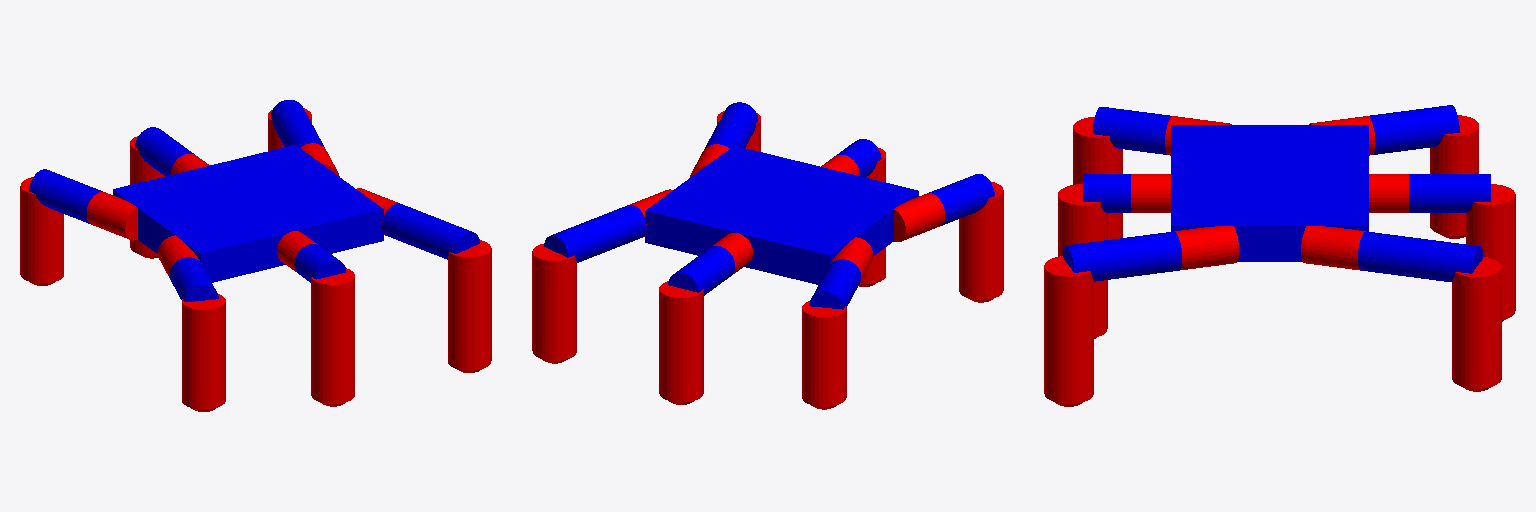
--- Render facts (derived) ---
3 views of the same robot in one strip: view 1: azimuth 30°, elevation 25°; view 2: azimuth 150°, elevation 25°; view 3: azimuth 270°, elevation 25° (orthographic).
Model pexod with 19 links and 18 joints (18 revolute), rooted at base_link, posed every joint at zero.
Links seen in each view (by area): view 1: base_link, leg_4_3, leg_3_3, leg_5_3, leg_0_3, leg_3_2, leg_0_2, leg_0_1, leg_2_2, leg_5_2, leg_1_2, leg_4_2 (+3 smaller); view 2: base_link, leg_1_3, leg_2_3, leg_0_3, leg_5_3, leg_2_2, leg_1_2, leg_5_2, leg_5_1, leg_0_2, leg_3_2, leg_4_3 (+3 smaller); view 3: base_link, leg_3_3, leg_2_3, leg_2_2, leg_3_2, leg_1_3, leg_4_3, leg_0_2, leg_1_2, leg_0_3, leg_5_2, leg_5_3 (+5 smaller).
Boxes of the visible links, x1,y1,x2,y2 form: base_link: (113, 145, 383, 282); leg_4_3: (311, 268, 354, 406); leg_3_3: (448, 240, 491, 372); leg_5_3: (182, 294, 225, 411); leg_0_3: (20, 177, 63, 285); leg_3_2: (382, 203, 479, 259); leg_0_2: (29, 169, 102, 223); leg_0_1: (87, 192, 137, 240); leg_2_2: (271, 100, 324, 147); leg_5_2: (170, 257, 218, 301); leg_1_2: (135, 127, 194, 175); leg_4_2: (294, 244, 345, 282); base_link: (645, 146, 918, 284); leg_1_3: (659, 281, 703, 404); leg_2_3: (532, 244, 576, 363); leg_0_3: (802, 301, 846, 409); leg_5_3: (959, 181, 1003, 302); leg_2_2: (544, 205, 646, 262); leg_1_2: (668, 246, 734, 295); leg_5_2: (929, 174, 994, 225); leg_5_1: (894, 193, 944, 241); leg_0_2: (809, 259, 860, 309); leg_3_2: (705, 102, 757, 148); leg_4_3: (859, 148, 885, 286); base_link: (1171, 125, 1368, 261); leg_3_3: (1044, 256, 1093, 406); leg_2_3: (1452, 257, 1501, 391); leg_2_2: (1358, 231, 1482, 281); leg_3_2: (1063, 231, 1181, 281); leg_1_3: (1466, 184, 1515, 321); leg_4_3: (1058, 184, 1107, 338); leg_0_2: (1369, 105, 1459, 154); leg_1_2: (1409, 174, 1490, 212); leg_0_3: (1430, 115, 1478, 238); leg_5_2: (1093, 107, 1171, 154); leg_5_3: (1073, 117, 1122, 239).
Bounding box of the posed robot: 0.3871 × 0.475 × 0.1819 m (x, y, z).
Geometry: primitives only (box / cylinder / sphere), no mesh files.

URDF robot description (pexod):
<?xml version="1.0" ?>
<!-- =================================================================================== -->
<!-- |    This document was autogenerated by xacro from pexod.xacro                    | -->
<!-- |    EDITING THIS FILE BY HAND IS NOT RECOMMENDED                                 | -->
<!-- =================================================================================== -->
<robot name="pexod" xmlns:xacro="http://www.ros.org/wiki/xacro">
  <!-- <xacro:include filename="$(find pexod_description)/urdf/pexod_control.xacro" /> -->
  <!-- MATERIALS -->
  <material name="Blue">
    <color rgba="0 0 1 1"/>
  </material>
  <material name="Red">
    <color rgba="1 0 0 1"/>
  </material>
  <material name="Green">
    <color rgba="0 1 0 1"/>
  </material>
  <material name="Yellow">
    <color rgba="1 1 0 1"/>
  </material>
  <material name="LightGrey">
    <color rgba="0.6 0.6 0.6 1.0"/>
  </material>
  <!-- END OF MATERIALS -->
  <!-- XACRO MACROS FOR VISUALS AND COLLISIONS -->
  <!-- END OF XACRO MACROS -->
  <!-- TORSO -->
  <link name="base_link">
    <visual>
      <origin rpy="0 0 0" xyz="0 0 0"/>
      <geometry>
        <box size="0.24 0.2 0.04"/>
      </geometry>
      <material name="Blue"/>
    </visual>
    <collision>
      <origin rpy="0 0 0" xyz="0 0 0"/>
      <geometry>
        <box size="0.24 0.2 0.04"/>
      </geometry>
    </collision>
    <inertial>
      <!-- CENTER OF MASS -->
      <origin rpy="0 0 0" xyz="0 0 0"/>
      <mass value="1.031"/>
      <!-- box inertia: 1/12*m(y^2+z^2), ... -->
      <inertia ixx="0.00357413333333" ixy="0" ixz="0" iyy="0.00508626666667" iyz="0" izz="0.00838546666667"/>
    </inertial>
  </link>
  <!-- XACRO MACRO FOR LEGS LINKS/JOINTS -->
  <!-- END OF LEG LINKS/JOINTS -->
  <joint name="body_leg_2" type="revolute">
    <parent link="base_link"/>
    <child link="leg_2_1"/>
    <limit effort="30.0" lower="-1.57079632679" upper="1.57079632679" velocity="7.0"/>
    <origin rpy="0 0 -0.3" xyz="0.11 0.04 0"/>
    <!-- <xacro:if value="${index == 5 or index == 4 or index == 3}">
                <axis xyz="0 0 1"/>
            </xacro:if>
            <xacro:if value="${index == 2 or index == 1 or index == 0}"> -->
    <axis xyz="0 0 1"/>
    <!-- </xacro:if> -->
    <dynamics damping="0.0"/>
  </joint>
  <link name="leg_2_1">
    <visual>
      <origin rpy="1.57079632679 0 0" xyz="0.01 0.03 0"/>
      <geometry>
        <cylinder length="0.06" radius="0.02"/>
      </geometry>
      <material name="Red"/>
    </visual>
    <collision>
      <origin rpy="1.57079632679 0 0" xyz="0.01 0.03 0"/>
      <geometry>
        <box size="0.02 0.02 0.06"/>
      </geometry>
    </collision>
    <inertial>
      <!-- CENTER OF MASS -->
      <origin rpy="1.57079632679 0 0" xyz="0.01 0.03 0"/>
      <mass value="0.02"/>
      <!-- box inertia: 1/12*m(y^2+z^2), ... -->
      <inertia ixx="6.66666666667e-06" ixy="0" ixz="0" iyy="6.66666666667e-06" iyz="0" izz="1.33333333333e-06"/>
    </inertial>
  </link>
  <joint name="leg_2_1_2" type="revolute">
    <parent link="leg_2_1"/>
    <child link="leg_2_2"/>
    <limit effort="30.0" lower="-0.78539816339" upper="0.78539816339" velocity="7.0"/>
    <origin rpy="0 0 0" xyz="0 0.06 0"/>
    <axis xyz="1 0 0"/>
    <dynamics damping="0.0"/>
  </joint>
  <link name="leg_2_2">
    <visual>
      <origin rpy="1.57079632679 0 0" xyz="0.01 0.060106948736 0"/>
      <geometry>
        <cylinder length="0.120213897472" radius="0.02"/>
      </geometry>
      <material name="Blue"/>
    </visual>
    <collision>
      <origin rpy="1.57079632679 0 0" xyz="0.01 0.060106948736 0"/>
      <geometry>
        <box size="0.02 0.02 0.120213897472"/>
      </geometry>
    </collision>
    <inertial>
      <!-- CENTER OF MASS -->
      <origin rpy="1.57079632679 0 0" xyz="0.01 0.060106948736 0"/>
      <mass value="0.184"/>
      <!-- box inertia: 1/12*m(y^2+z^2), ... -->
      <inertia ixx="0.000227721177563" ixy="0" ixz="0" iyy="0.000227721177563" iyz="0" izz="1.22666666667e-05"/>
    </inertial>
  </link>
  <joint name="leg_2_2_3" type="revolute">
    <parent link="leg_2_2"/>
    <child link="leg_2_3"/>
    <limit effort="30.0" lower="-0.78539816339" upper="0.78539816339" velocity="7.0"/>
    <origin rpy="-1.57079632679 0 0" xyz="0 0.120213897472 0"/>
    <axis xyz="-1 0 0"/>
    <dynamics damping="0.0"/>
  </joint>
  <link name="leg_2_3">
    <visual>
      <origin rpy="1.57079632679 0 0" xyz="0.0125 0.0620034790075 0"/>
      <geometry>
        <cylinder length="0.124006958015" radius="0.025"/>
      </geometry>
      <material name="Red"/>
    </visual>
    <visual>
      <origin rpy="1.57079632679 0 0" xyz="0.0125 0.111506958015 0"/>
      <geometry>
        <sphere radius="0.025"/>
      </geometry>
      <material name="Red"/>
    </visual>
    <collision>
      <origin rpy="1.57079632679 0 0" xyz="0.0125 0.0620034790075 0"/>
      <geometry>
        <box size="0.025 0.025 0.124006958015"/>
      </geometry>
    </collision>
    <collision>
      <origin rpy="1.57079632679 0 0" xyz="0.0125 0.111506958015 0"/>
      <geometry>
        <sphere radius="0.025"/>
      </geometry>
      <material name="Red"/>
    </collision>
    <inertial>
      <!-- CENTER OF MASS -->
      <origin rpy="1.57079632679 0 0" xyz="0.0125 0.0620034790075 0"/>
      <mass value="0.04"/>
      <!-- box inertia: 1/12*m(y^2+z^2), ... -->
      <inertia ixx="5.33424187871e-05" ixy="0" ixz="0" iyy="5.33424187871e-05" iyz="0" izz="4.16666666667e-06"/>
    </inertial>
  </link>
  <joint name="body_leg_3" type="revolute">
    <parent link="base_link"/>
    <child link="leg_3_1"/>
    <limit effort="30.0" lower="-1.57079632679" upper="1.57079632679" velocity="7.0"/>
    <origin rpy="0 0 0.3" xyz="0.11 -0.04 0"/>
    <!-- <xacro:if value="${index == 5 or index == 4 or index == 3}">
                <axis xyz="0 0 1"/>
            </xacro:if>
            <xacro:if value="${index == 2 or index == 1 or index == 0}"> -->
    <axis xyz="0 0 1"/>
    <!-- </xacro:if> -->
    <dynamics damping="0.0"/>
  </joint>
  <link name="leg_3_1">
    <visual>
      <origin rpy="1.57079632679 0 0" xyz="0.01 -0.03 0"/>
      <geometry>
        <cylinder length="0.06" radius="0.02"/>
      </geometry>
      <material name="Red"/>
    </visual>
    <collision>
      <origin rpy="1.57079632679 0 0" xyz="0.01 -0.03 0"/>
      <geometry>
        <box size="0.02 0.02 0.06"/>
      </geometry>
    </collision>
    <inertial>
      <!-- CENTER OF MASS -->
      <origin rpy="1.57079632679 0 0" xyz="0.01 -0.03 0"/>
      <mass value="0.02"/>
      <!-- box inertia: 1/12*m(y^2+z^2), ... -->
      <inertia ixx="6.66666666667e-06" ixy="0" ixz="0" iyy="6.66666666667e-06" iyz="0" izz="1.33333333333e-06"/>
    </inertial>
  </link>
  <joint name="leg_3_1_2" type="revolute">
    <parent link="leg_3_1"/>
    <child link="leg_3_2"/>
    <limit effort="30.0" lower="-0.78539816339" upper="0.78539816339" velocity="7.0"/>
    <origin rpy="0 0 0" xyz="0 -0.06 0"/>
    <axis xyz="-1 0 0"/>
    <dynamics damping="0.0"/>
  </joint>
  <link name="leg_3_2">
    <visual>
      <origin rpy="1.57079632679 0 0" xyz="0.01 -0.0570740806035 0"/>
      <geometry>
        <cylinder length="0.114148161207" radius="0.02"/>
      </geometry>
      <material name="Blue"/>
    </visual>
    <collision>
      <origin rpy="1.57079632679 0 0" xyz="0.01 -0.0570740806035 0"/>
      <geometry>
        <box size="0.02 0.02 0.114148161207"/>
      </geometry>
    </collision>
    <inertial>
      <!-- CENTER OF MASS -->
      <origin rpy="1.57079632679 0 0" xyz="0.01 -0.0570740806035 0"/>
      <mass value="0.184"/>
      <!-- box inertia: 1/12*m(y^2+z^2), ... -->
      <inertia ixx="0.000205923641506" ixy="0" ixz="0" iyy="0.000205923641506" iyz="0" izz="1.22666666667e-05"/>
    </inertial>
  </link>
  <joint name="leg_3_2_3" type="revolute">
    <parent link="leg_3_2"/>
    <child link="leg_3_3"/>
    <limit effort="30.0" lower="-0.78539816339" upper="0.78539816339" velocity="7.0"/>
    <origin rpy="1.57079632679 0 0" xyz="0 -0.114148161207 0"/>
    <axis xyz="1 0 0"/>
    <dynamics damping="0.0"/>
  </joint>
  <link name="leg_3_3">
    <visual>
      <origin rpy="1.57079632679 0 0" xyz="0.0125 -0.070898653784 0"/>
      <geometry>
        <cylinder length="0.141797307568" radius="0.025"/>
      </geometry>
      <material name="Red"/>
    </visual>
    <visual>
      <origin rpy="1.57079632679 0 0" xyz="0.0125 -0.129297307568 0"/>
      <geometry>
        <sphere radius="0.025"/>
      </geometry>
      <material name="Red"/>
    </visual>
    <collision>
      <origin rpy="1.57079632679 0 0" xyz="0.0125 -0.070898653784 0"/>
      <geometry>
        <box size="0.025 0.025 0.141797307568"/>
      </geometry>
    </collision>
    <collision>
      <origin rpy="1.57079632679 0 0" xyz="0.0125 -0.129297307568 0"/>
      <geometry>
        <sphere radius="0.025"/>
      </geometry>
      <material name="Red"/>
    </collision>
    <inertial>
      <!-- CENTER OF MASS -->
      <origin rpy="1.57079632679 0 0" xyz="0.0125 -0.070898653784 0"/>
      <mass value="0.04"/>
      <!-- box inertia: 1/12*m(y^2+z^2), ... -->
      <inertia ixx="6.91049214451e-05" ixy="0" ixz="0" iyy="6.91049214451e-05" iyz="0" izz="4.16666666667e-06"/>
    </inertial>
  </link>
  <joint name="body_leg_0" type="revolute">
    <parent link="base_link"/>
    <child link="leg_0_1"/>
    <limit effort="30.0" lower="-1.57079632679" upper="1.57079632679" velocity="7.0"/>
    <origin rpy="0 0 0.3" xyz="-0.13 0.04 0"/>
    <!-- <xacro:if value="${index == 5 or index == 4 or index == 3}">
                <axis xyz="0 0 1"/>
            </xacro:if>
            <xacro:if value="${index == 2 or index == 1 or index == 0}"> -->
    <axis xyz="0 0 1"/>
    <!-- </xacro:if> -->
    <dynamics damping="0.0"/>
  </joint>
  <link name="leg_0_1">
    <visual>
      <origin rpy="1.57079632679 0 0" xyz="0.01 0.03 0"/>
      <geometry>
        <cylinder length="0.06" radius="0.02"/>
      </geometry>
      <material name="Red"/>
    </visual>
    <collision>
      <origin rpy="1.57079632679 0 0" xyz="0.01 0.03 0"/>
      <geometry>
        <box size="0.02 0.02 0.06"/>
      </geometry>
    </collision>
    <inertial>
      <!-- CENTER OF MASS -->
      <origin rpy="1.57079632679 0 0" xyz="0.01 0.03 0"/>
      <mass value="0.02"/>
      <!-- box inertia: 1/12*m(y^2+z^2), ... -->
      <inertia ixx="6.66666666667e-06" ixy="0" ixz="0" iyy="6.66666666667e-06" iyz="0" izz="1.33333333333e-06"/>
    </inertial>
  </link>
  <joint name="leg_0_1_2" type="revolute">
    <parent link="leg_0_1"/>
    <child link="leg_0_2"/>
    <limit effort="30.0" lower="-0.78539816339" upper="0.78539816339" velocity="7.0"/>
    <origin rpy="0 0 0" xyz="0 0.06 0"/>
    <axis xyz="1 0 0"/>
    <dynamics damping="0.0"/>
  </joint>
  <link name="leg_0_2">
    <visual>
      <origin rpy="1.57079632679 0 0" xyz="0.01 0.0445394735582 0"/>
      <geometry>
        <cylinder length="0.0890789471163" radius="0.02"/>
      </geometry>
      <material name="Blue"/>
    </visual>
    <collision>
      <origin rpy="1.57079632679 0 0" xyz="0.01 0.0445394735582 0"/>
      <geometry>
        <box size="0.02 0.02 0.0890789471163"/>
      </geometry>
    </collision>
    <inertial>
      <!-- CENTER OF MASS -->
      <origin rpy="1.57079632679 0 0" xyz="0.01 0.0445394735582 0"/>
      <mass value="0.184"/>
      <!-- box inertia: 1/12*m(y^2+z^2), ... -->
      <inertia ixx="0.00012780423523" ixy="0" ixz="0" iyy="0.00012780423523" iyz="0" izz="1.22666666667e-05"/>
    </inertial>
  </link>
  <joint name="leg_0_2_3" type="revolute">
    <parent link="leg_0_2"/>
    <child link="leg_0_3"/>
    <limit effort="30.0" lower="-0.78539816339" upper="0.78539816339" velocity="7.0"/>
    <origin rpy="-1.57079632679 0 0" xyz="0 0.0890789471163 0"/>
    <axis xyz="-1 0 0"/>
    <dynamics damping="0.0"/>
  </joint>
  <link name="leg_0_3">
    <visual>
      <origin rpy="1.57079632679 0 0" xyz="0.0125 0.0557171136635 0"/>
      <geometry>
        <cylinder length="0.111434227327" radius="0.025"/>
      </geometry>
      <material name="Red"/>
    </visual>
    <visual>
      <origin rpy="1.57079632679 0 0" xyz="0.0125 0.098934227327 0"/>
      <geometry>
        <sphere radius="0.025"/>
      </geometry>
      <material name="Red"/>
    </visual>
    <collision>
      <origin rpy="1.57079632679 0 0" xyz="0.0125 0.0557171136635 0"/>
      <geometry>
        <box size="0.025 0.025 0.111434227327"/>
      </geometry>
    </collision>
    <collision>
      <origin rpy="1.57079632679 0 0" xyz="0.0125 0.098934227327 0"/>
      <geometry>
        <sphere radius="0.025"/>
      </geometry>
      <material name="Red"/>
    </collision>
    <inertial>
      <!-- CENTER OF MASS -->
      <origin rpy="1.57079632679 0 0" xyz="0.0125 0.0557171136635 0"/>
      <mass value="0.04"/>
      <!-- box inertia: 1/12*m(y^2+z^2), ... -->
      <inertia ixx="4.34752900666e-05" ixy="0" ixz="0" iyy="4.34752900666e-05" iyz="0" izz="4.16666666667e-06"/>
    </inertial>
  </link>
  <joint name="body_leg_5" type="revolute">
    <parent link="base_link"/>
    <child link="leg_5_1"/>
    <limit effort="30.0" lower="-1.57079632679" upper="1.57079632679" velocity="7.0"/>
    <origin rpy="0 0 -0.3" xyz="-0.13 -0.04 0"/>
    <!-- <xacro:if value="${index == 5 or index == 4 or index == 3}">
                <axis xyz="0 0 1"/>
            </xacro:if>
            <xacro:if value="${index == 2 or index == 1 or index == 0}"> -->
    <axis xyz="0 0 1"/>
    <!-- </xacro:if> -->
    <dynamics damping="0.0"/>
  </joint>
  <link name="leg_5_1">
    <visual>
      <origin rpy="1.57079632679 0 0" xyz="0.01 -0.03 0"/>
      <geometry>
        <cylinder length="0.06" radius="0.02"/>
      </geometry>
      <material name="Red"/>
    </visual>
    <collision>
      <origin rpy="1.57079632679 0 0" xyz="0.01 -0.03 0"/>
      <geometry>
        <box size="0.02 0.02 0.06"/>
      </geometry>
    </collision>
    <inertial>
      <!-- CENTER OF MASS -->
      <origin rpy="1.57079632679 0 0" xyz="0.01 -0.03 0"/>
      <mass value="0.02"/>
      <!-- box inertia: 1/12*m(y^2+z^2), ... -->
      <inertia ixx="6.66666666667e-06" ixy="0" ixz="0" iyy="6.66666666667e-06" iyz="0" izz="1.33333333333e-06"/>
    </inertial>
  </link>
  <joint name="leg_5_1_2" type="revolute">
    <parent link="leg_5_1"/>
    <child link="leg_5_2"/>
    <limit effort="30.0" lower="-0.78539816339" upper="0.78539816339" velocity="7.0"/>
    <origin rpy="0 0 0" xyz="0 -0.06 0"/>
    <axis xyz="-1 0 0"/>
    <dynamics damping="0.0"/>
  </joint>
  <link name="leg_5_2">
    <visual>
      <origin rpy="1.57079632679 0 0" xyz="0.01 -0.0380747236346 0"/>
      <geometry>
        <cylinder length="0.0761494472691" radius="0.02"/>
      </geometry>
      <material name="Blue"/>
    </visual>
    <collision>
      <origin rpy="1.57079632679 0 0" xyz="0.01 -0.0380747236346 0"/>
      <geometry>
        <box size="0.02 0.02 0.0761494472691"/>
      </geometry>
    </collision>
    <inertial>
      <!-- CENTER OF MASS -->
      <origin rpy="1.57079632679 0 0" xyz="0.01 -0.0380747236346 0"/>
      <mass value="0.184"/>
      <!-- box inertia: 1/12*m(y^2+z^2), ... -->
      <inertia ixx="9.50473208973e-05" ixy="0" ixz="0" iyy="9.50473208973e-05" iyz="0" izz="1.22666666667e-05"/>
    </inertial>
  </link>
  <joint name="leg_5_2_3" type="revolute">
    <parent link="leg_5_2"/>
    <child link="leg_5_3"/>
    <limit effort="30.0" lower="-0.78539816339" upper="0.78539816339" velocity="7.0"/>
    <origin rpy="1.57079632679 0 0" xyz="0 -0.0761494472691 0"/>
    <axis xyz="1 0 0"/>
    <dynamics damping="0.0"/>
  </joint>
  <link name="leg_5_3">
    <visual>
      <origin rpy="1.57079632679 0 0" xyz="0.0125 -0.062472190669 0"/>
      <geometry>
        <cylinder length="0.124944381338" radius="0.025"/>
      </geometry>
      <material name="Red"/>
    </visual>
    <visual>
      <origin rpy="1.57079632679 0 0" xyz="0.0125 -0.112444381338 0"/>
      <geometry>
        <sphere radius="0.025"/>
      </geometry>
      <material name="Red"/>
    </visual>
    <collision>
      <origin rpy="1.57079632679 0 0" xyz="0.0125 -0.062472190669 0"/>
      <geometry>
        <box size="0.025 0.025 0.124944381338"/>
      </geometry>
    </collision>
    <collision>
      <origin rpy="1.57079632679 0 0" xyz="0.0125 -0.112444381338 0"/>
      <geometry>
        <sphere radius="0.025"/>
      </geometry>
      <material name="Red"/>
    </collision>
    <inertial>
      <!-- CENTER OF MASS -->
      <origin rpy="1.57079632679 0 0" xyz="0.0125 -0.062472190669 0"/>
      <mass value="0.04"/>
      <!-- box inertia: 1/12*m(y^2+z^2), ... -->
      <inertia ixx="5.41203280931e-05" ixy="0" ixz="0" iyy="5.41203280931e-05" iyz="0" izz="4.16666666667e-06"/>
    </inertial>
  </link>
  <joint name="body_leg_1" type="revolute">
    <parent link="base_link"/>
    <child link="leg_1_1"/>
    <limit effort="30.0" lower="-1.57079632679" upper="1.57079632679" velocity="7.0"/>
    <origin rpy="0 0 0" xyz="-0.01 0.08 0"/>
    <!-- <xacro:if value="${index == 5 or index == 4 or index == 3}">
                <axis xyz="0 0 1"/>
            </xacro:if>
            <xacro:if value="${index == 2 or index == 1 or index == 0}"> -->
    <axis xyz="0 0 1"/>
    <!-- </xacro:if> -->
    <dynamics damping="0.0"/>
  </joint>
  <link name="leg_1_1">
    <visual>
      <origin rpy="1.57079632679 0 0" xyz="0.01 0.03 0"/>
      <geometry>
        <cylinder length="0.06" radius="0.02"/>
      </geometry>
      <material name="Red"/>
    </visual>
    <collision>
      <origin rpy="1.57079632679 0 0" xyz="0.01 0.03 0"/>
      <geometry>
        <box size="0.02 0.02 0.06"/>
      </geometry>
    </collision>
    <inertial>
      <!-- CENTER OF MASS -->
      <origin rpy="1.57079632679 0 0" xyz="0.01 0.03 0"/>
      <mass value="0.02"/>
      <!-- box inertia: 1/12*m(y^2+z^2), ... -->
      <inertia ixx="6.66666666667e-06" ixy="0" ixz="0" iyy="6.66666666667e-06" iyz="0" izz="1.33333333333e-06"/>
    </inertial>
  </link>
  <joint name="leg_1_1_2" type="revolute">
    <parent link="leg_1_1"/>
    <child link="leg_1_2"/>
    <limit effort="30.0" lower="-0.78539816339" upper="0.78539816339" velocity="7.0"/>
    <origin rpy="0 0 0" xyz="0 0.06 0"/>
    <axis xyz="1 0 0"/>
    <dynamics damping="0.0"/>
  </joint>
  <link name="leg_1_2">
    <visual>
      <origin rpy="1.57079632679 0 0" xyz="0.01 0.041205317054 0"/>
      <geometry>
        <cylinder length="0.0824106341081" radius="0.02"/>
      </geometry>
      <material name="Blue"/>
    </visual>
    <collision>
      <origin rpy="1.57079632679 0 0" xyz="0.01 0.041205317054 0"/>
      <geometry>
        <box size="0.02 0.02 0.0824106341081"/>
      </geometry>
    </collision>
    <inertial>
      <!-- CENTER OF MASS -->
      <origin rpy="1.57079632679 0 0" xyz="0.01 0.041205317054 0"/>
      <mass value="0.184"/>
      <!-- box inertia: 1/12*m(y^2+z^2), ... -->
      <inertia ixx="0.000110269860083" ixy="0" ixz="0" iyy="0.000110269860083" iyz="0" izz="1.22666666667e-05"/>
    </inertial>
  </link>
  <joint name="leg_1_2_3" type="revolute">
    <parent link="leg_1_2"/>
    <child link="leg_1_3"/>
    <limit effort="30.0" lower="-0.78539816339" upper="0.78539816339" velocity="7.0"/>
    <origin rpy="-1.57079632679 0 0" xyz="0 0.0824106341081 0"/>
    <axis xyz="-1 0 0"/>
    <dynamics damping="0.0"/>
  </joint>
  <link name="leg_1_3">
    <visual>
      <origin rpy="1.57079632679 0 0" xyz="0.0125 0.0648955917555 0"/>
      <geometry>
        <cylinder length="0.129791183511" radius="0.025"/>
      </geometry>
      <material name="Red"/>
    </visual>
    <visual>
      <origin rpy="1.57079632679 0 0" xyz="0.0125 0.117291183511 0"/>
      <geometry>
        <sphere radius="0.025"/>
      </geometry>
      <material name="Red"/>
    </visual>
    <collision>
      <origin rpy="1.57079632679 0 0" xyz="0.0125 0.0648955917555 0"/>
      <geometry>
        <box size="0.025 0.025 0.129791183511"/>
      </geometry>
    </collision>
    <collision>
      <origin rpy="1.57079632679 0 0" xyz="0.0125 0.117291183511 0"/>
      <geometry>
        <sphere radius="0.025"/>
      </geometry>
      <material name="Red"/>
    </collision>
    <inertial>
      <!-- CENTER OF MASS -->
      <origin rpy="1.57079632679 0 0" xyz="0.0125 0.0648955917555 0"/>
      <mass value="0.04"/>
      <!-- box inertia: 1/12*m(y^2+z^2), ... -->
      <inertia ixx="5.8235837724e-05" ixy="0" ixz="0" iyy="5.8235837724e-05" iyz="0" izz="4.16666666667e-06"/>
    </inertial>
  </link>
  <joint name="body_leg_4" type="revolute">
    <parent link="base_link"/>
    <child link="leg_4_1"/>
    <limit effort="30.0" lower="-1.57079632679" upper="1.57079632679" velocity="7.0"/>
    <origin rpy="0 0 0" xyz="-0.01 -0.08 0"/>
    <!-- <xacro:if value="${index == 5 or index == 4 or index == 3}">
                <axis xyz="0 0 1"/>
            </xacro:if>
            <xacro:if value="${index == 2 or index == 1 or index == 0}"> -->
    <axis xyz="0 0 1"/>
    <!-- </xacro:if> -->
    <dynamics damping="0.0"/>
  </joint>
  <link name="leg_4_1">
    <visual>
      <origin rpy="1.57079632679 0 0" xyz="0.01 -0.03 0"/>
      <geometry>
        <cylinder length="0.06" radius="0.02"/>
      </geometry>
      <material name="Red"/>
    </visual>
    <collision>
      <origin rpy="1.57079632679 0 0" xyz="0.01 -0.03 0"/>
      <geometry>
        <box size="0.02 0.02 0.06"/>
      </geometry>
    </collision>
    <inertial>
      <!-- CENTER OF MASS -->
      <origin rpy="1.57079632679 0 0" xyz="0.01 -0.03 0"/>
      <mass value="0.02"/>
      <!-- box inertia: 1/12*m(y^2+z^2), ... -->
      <inertia ixx="6.66666666667e-06" ixy="0" ixz="0" iyy="6.66666666667e-06" iyz="0" izz="1.33333333333e-06"/>
    </inertial>
  </link>
  <joint name="leg_4_1_2" type="revolute">
    <parent link="leg_4_1"/>
    <child link="leg_4_2"/>
    <limit effort="30.0" lower="-0.78539816339" upper="0.78539816339" velocity="7.0"/>
    <origin rpy="0 0 0" xyz="0 -0.06 0"/>
    <axis xyz="-1 0 0"/>
    <dynamics damping="0.0"/>
  </joint>
  <link name="leg_4_2">
    <visual>
      <origin rpy="1.57079632679 0 0" xyz="0.01 -0.0244812389936 0"/>
      <geometry>
        <cylinder length="0.0489624779871" radius="0.02"/>
      </geometry>
      <material name="Blue"/>
    </visual>
    <collision>
      <origin rpy="1.57079632679 0 0" xyz="0.01 -0.0244812389936 0"/>
      <geometry>
        <box size="0.02 0.02 0.0489624779871"/>
      </geometry>
    </collision>
    <inertial>
      <!-- CENTER OF MASS -->
      <origin rpy="1.57079632679 0 0" xyz="0.01 -0.0244812389936 0"/>
      <mass value="0.184"/>
      <!-- box inertia: 1/12*m(y^2+z^2), ... -->
      <inertia ixx="4.28923051764e-05" ixy="0" ixz="0" iyy="4.28923051764e-05" iyz="0" izz="1.22666666667e-05"/>
    </inertial>
  </link>
  <joint name="leg_4_2_3" type="revolute">
    <parent link="leg_4_2"/>
    <child link="leg_4_3"/>
    <limit effort="30.0" lower="-0.78539816339" upper="0.78539816339" velocity="7.0"/>
    <origin rpy="1.57079632679 0 0" xyz="0 -0.0489624779871 0"/>
    <axis xyz="1 0 0"/>
    <dynamics damping="0.0"/>
  </joint>
  <link name="leg_4_3">
    <visual>
      <origin rpy="1.57079632679 0 0" xyz="0.0125 -0.074680284876 0"/>
      <geometry>
        <cylinder length="0.149360569752" radius="0.025"/>
      </geometry>
      <material name="Red"/>
    </visual>
    <visual>
      <origin rpy="1.57079632679 0 0" xyz="0.0125 -0.136860569752 0"/>
      <geometry>
        <sphere radius="0.025"/>
      </geometry>
      <material name="Red"/>
    </visual>
    <collision>
      <origin rpy="1.57079632679 0 0" xyz="0.0125 -0.074680284876 0"/>
      <geometry>
        <box size="0.025 0.025 0.149360569752"/>
      </geometry>
    </collision>
    <collision>
      <origin rpy="1.57079632679 0 0" xyz="0.0125 -0.136860569752 0"/>
      <geometry>
        <sphere radius="0.025"/>
      </geometry>
      <material name="Red"/>
    </collision>
    <inertial>
      <!-- CENTER OF MASS -->
      <origin rpy="1.57079632679 0 0" xyz="0.0125 -0.074680284876 0"/>
      <mass value="0.04"/>
      <!-- box inertia: 1/12*m(y^2+z^2), ... -->
      <inertia ixx="7.64452659888e-05" ixy="0" ixz="0" iyy="7.64452659888e-05" iyz="0" izz="4.16666666667e-06"/>
    </inertial>
  </link>
  <!-- END OF LEG LINKS/JOINTS -->
</robot>
